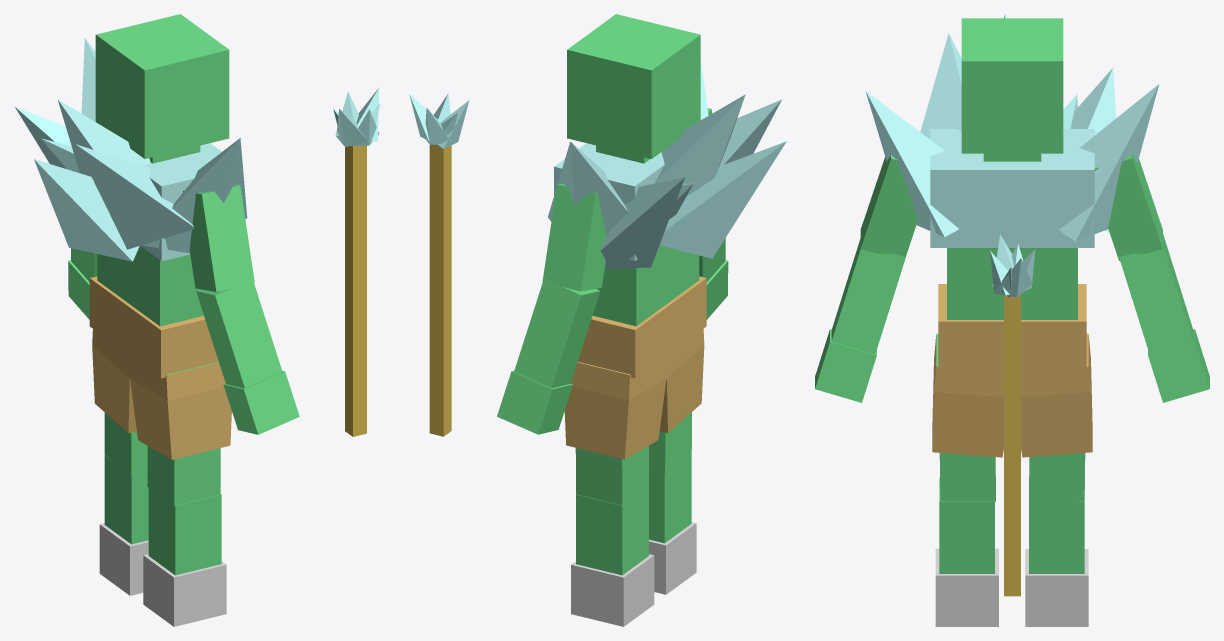
The model's file is crystal_goblin.fbx.
3 views of the same model, side by side, from view 1: azimuth 30°, elevation 25°; view 2: azimuth 150°, elevation 25°; view 3: azimuth 270°, elevation 25° (orthographic). The views are drawn at different scales.
Parts seen in each view (by area): view 1: Cube.144, Cube.136, Cube.128, Cube.133, Cube.141, Cube.146, Cube.145, Cube.129, Cube.143, Cube.126, Cube.134, Cube.140 (+12 smaller); view 2: Cube.144, Cube.134, Cube.128, Cube.133, Cube.126, Cube.132, Cube.131, Cube.137, Cube.129, Cube.136, Cube.139, Cube.148 (+9 smaller); view 3: Cube.130, Cube.144, Cube.134, Cube.136, Cube.133, Cube.129, Cube.128, Cube.132, Cube.141, Cube.125, Cube.147, Cube.143 (+10 smaller).
Boxes of the visible parts, box(x1,y1,x2,y2) form: Cube.144: box(95, 14, 229, 158); Cube.136: box(129, 356, 231, 505); Cube.128: box(345, 145, 366, 436); Cube.133: box(89, 276, 218, 378); Cube.141: box(196, 283, 282, 388); Cube.146: box(76, 144, 194, 249); Cube.145: box(183, 184, 254, 291); Cube.129: box(97, 246, 203, 326); Cube.143: box(148, 488, 221, 575); Cube.126: box(34, 159, 139, 261); Cube.134: box(92, 329, 147, 474); Cube.140: box(143, 554, 226, 626); Cube.144: box(567, 14, 700, 158); Cube.134: box(564, 355, 667, 505); Cube.128: box(429, 144, 451, 436); Cube.133: box(578, 276, 706, 378); Cube.126: box(659, 141, 786, 258); Cube.132: box(514, 279, 600, 388); Cube.131: box(542, 183, 606, 291); Cube.137: box(576, 487, 648, 575); Cube.129: box(592, 245, 699, 326); Cube.136: box(649, 329, 704, 474); Cube.139: box(571, 554, 654, 626); Cube.148: box(600, 177, 684, 268); Cube.130: box(930, 129, 1094, 247); Cube.144: box(961, 18, 1063, 153); Cube.134: box(1021, 333, 1092, 501); Cube.136: box(932, 333, 1003, 501); Cube.133: box(938, 284, 1086, 371); Cube.129: box(947, 248, 1077, 319); Cube.128: box(1004, 294, 1020, 596); Cube.132: box(1119, 234, 1193, 354); Cube.141: box(831, 238, 905, 354); Cube.125: box(1058, 84, 1159, 241); Cube.147: box(865, 91, 958, 237); Cube.143: box(939, 478, 994, 573).
Bounding box in the file's own units: 458 × 668 × 417.
